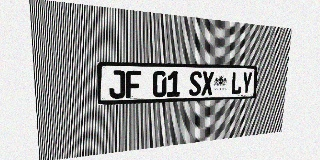0: (152, 71, 167, 97)
1: (167, 71, 180, 97)
F: (126, 70, 141, 98)
J: (109, 70, 125, 99)
L: (231, 72, 242, 95)
S: (189, 71, 202, 96)
X: (201, 71, 214, 96)
Y: (241, 72, 253, 94)
